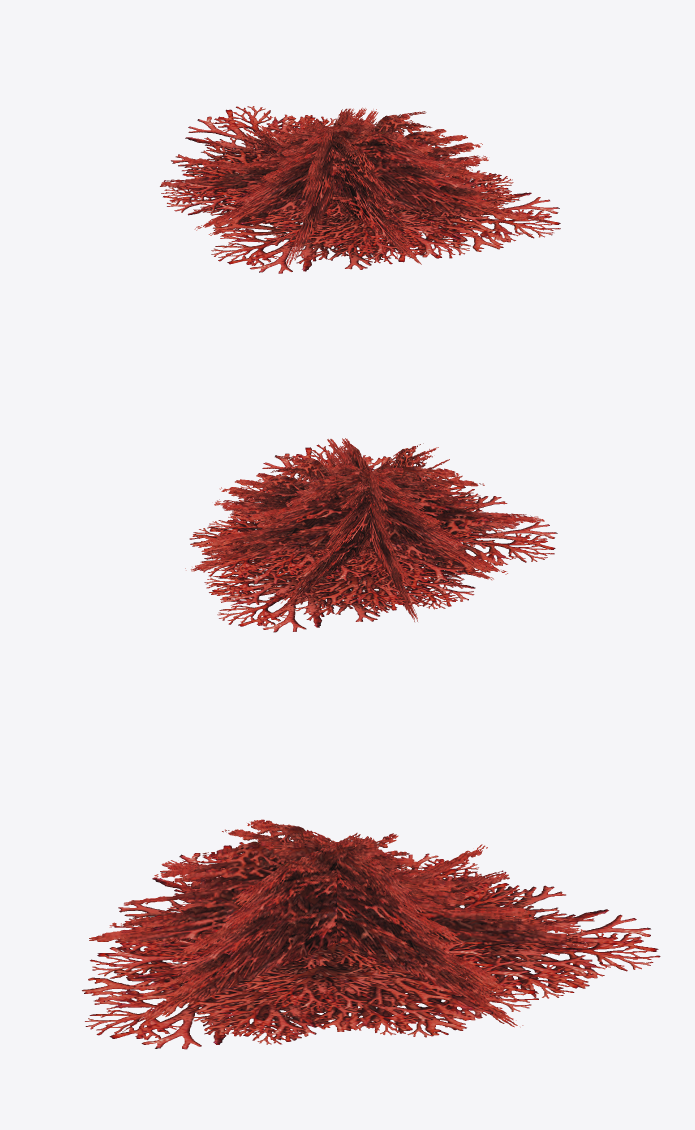
The model's file is Coral-Big_LOD2.fbx.
3 renders of one model, top to bottom at view 1: azimuth 30°, elevation 25°; view 2: azimuth 150°, elevation 25°; view 3: azimuth 270°, elevation 25°, orthographic. The views are drawn at different scales.
Parts seen in each view (by area): view 1: Coral-Big_LOD2; view 2: Coral-Big_LOD2; view 3: Coral-Big_LOD2.
Boxes of the visible parts, x1,y1,x2,y2 form: Coral-Big_LOD2: (160,106,560,273); Coral-Big_LOD2: (185,438,557,632); Coral-Big_LOD2: (82,819,660,1049).
Bounding box in the file's own units: 1.26 × 0.2992 × 1.27.
